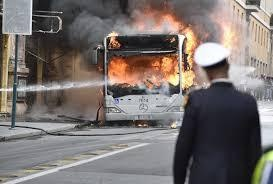fire: (105, 15, 199, 92)
